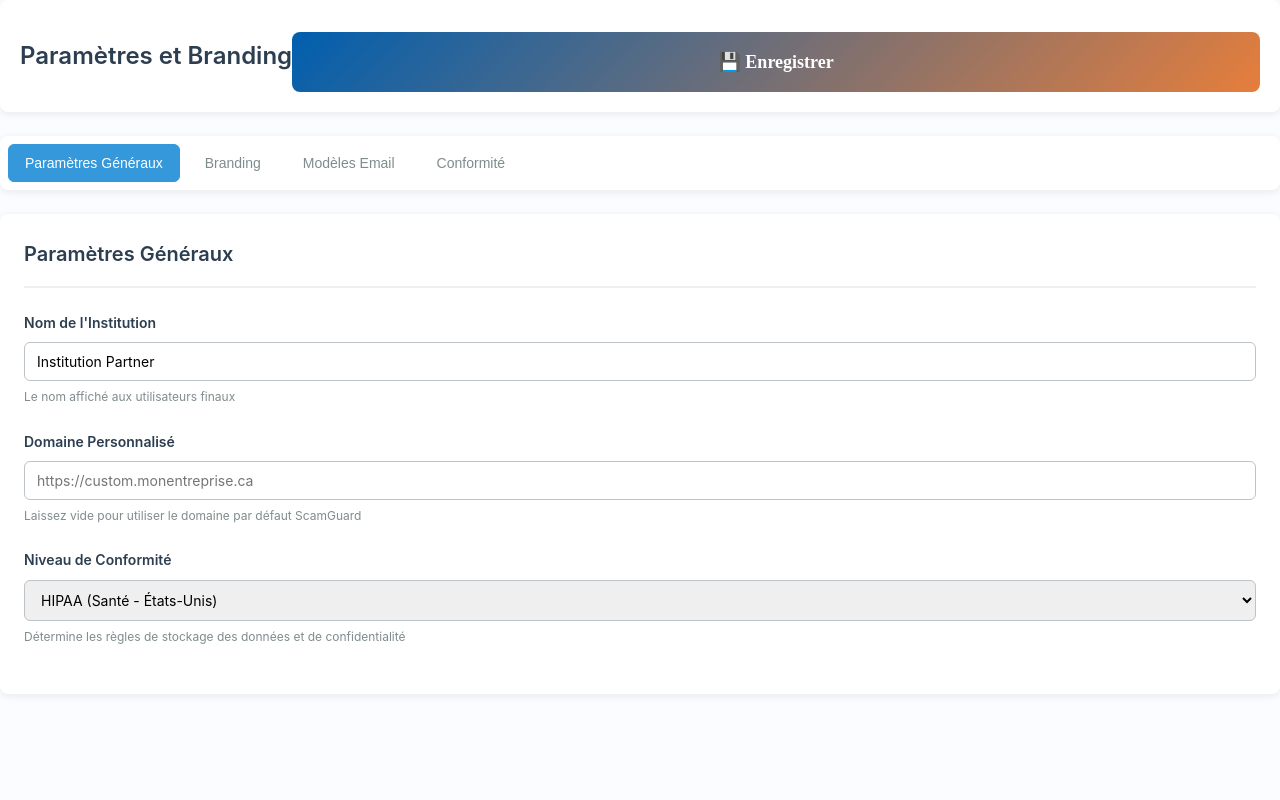
Scenario: SettingsBranding Module › Tab Navigation › should switch to branding tab
Click the button "Branding".
click(233, 163)  # box [188,144,278,182]
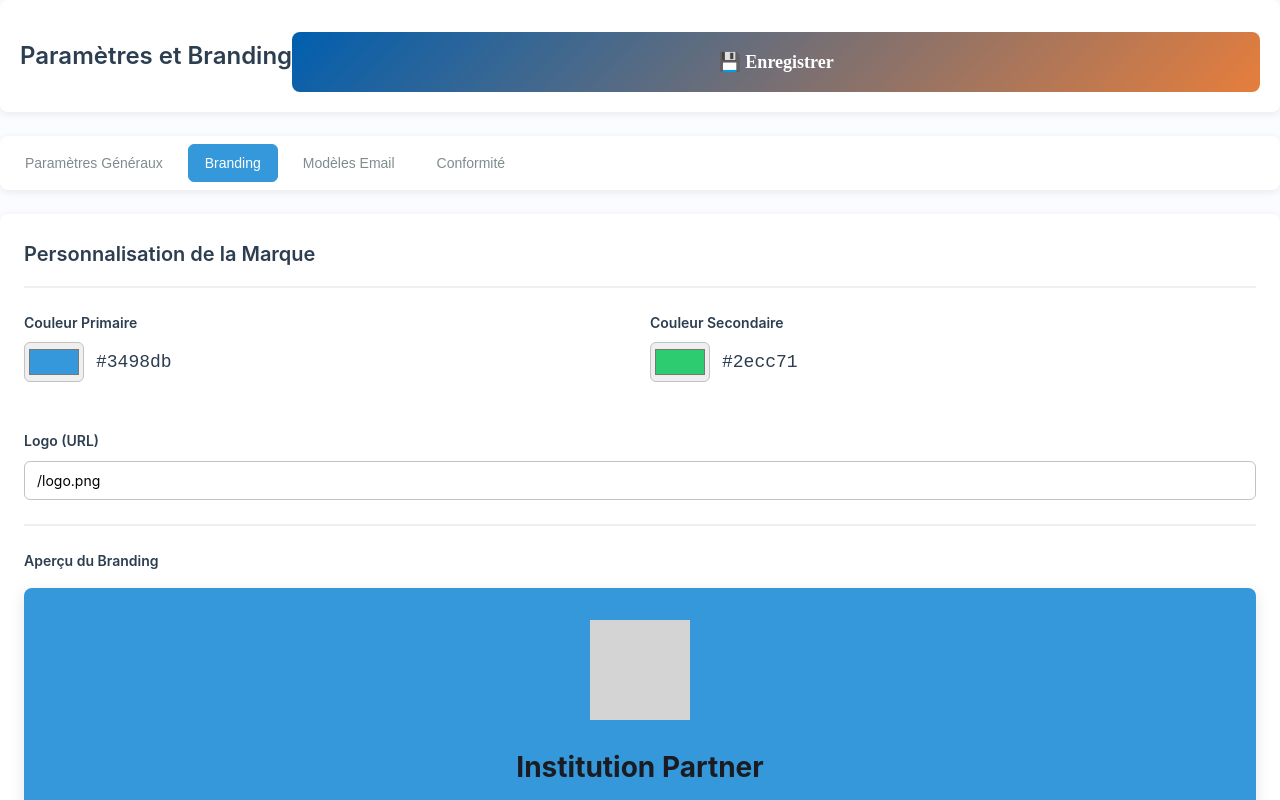
expect the heading "Personnalisation de la Marque" is shown: met, box [24,238,1256,288]
